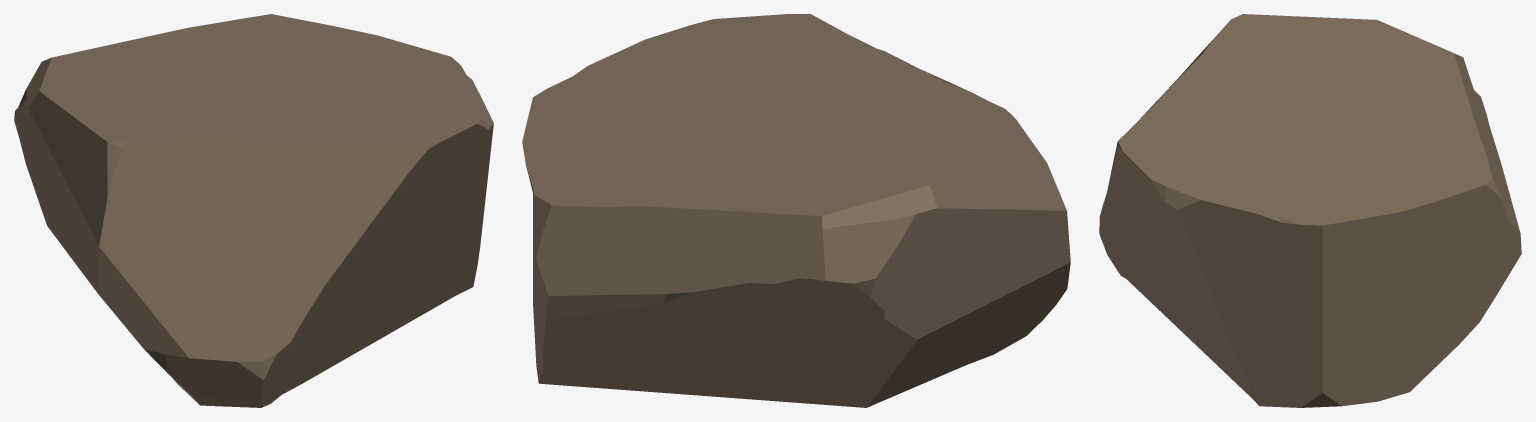
File: rock_8.fbx
3 renders of one model, left to right at view 1: azimuth 30°, elevation 25°; view 2: azimuth 150°, elevation 25°; view 3: azimuth 270°, elevation 25°, orthographic. The views are drawn at different scales.
Visible parts, largest first — view 1: rock_8; view 2: rock_8; view 3: rock_8.
Part boxes in pixels (x1,y1,x2,y2): rock_8: (14, 14, 493, 407); rock_8: (522, 14, 1070, 407); rock_8: (1099, 14, 1521, 407).
Bounding box in the file's own units: 1.83 × 1.06 × 1.75.
